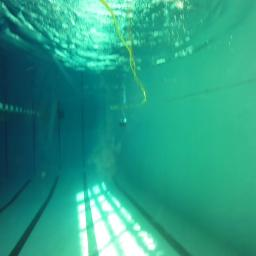Full: (119, 118, 127, 128)
